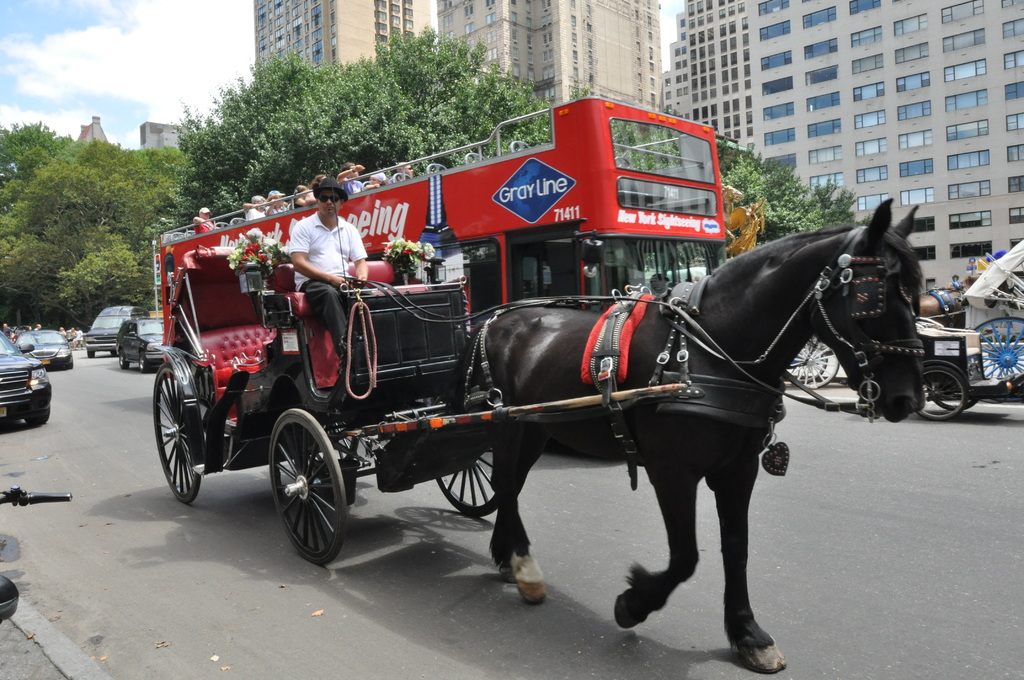horse: (447, 197, 925, 673)
